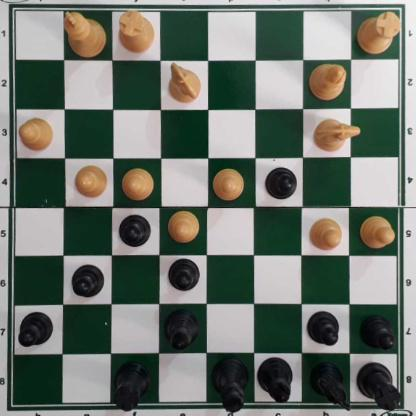black-bishop: (257, 358, 294, 407), (165, 310, 198, 353)
black-king: (211, 359, 250, 414)
black-knight: (311, 363, 348, 415)
black-pawn: (18, 312, 54, 349), (361, 317, 396, 352), (167, 260, 201, 295), (309, 312, 341, 349), (72, 265, 105, 300), (119, 215, 151, 250), (265, 168, 297, 202)
black-rook: (357, 363, 402, 415), (113, 362, 152, 412)
white-bishop: (308, 63, 347, 102)
white-king: (64, 10, 107, 59)
white-knight: (312, 119, 362, 152), (166, 63, 202, 105)
white-pawn: (19, 117, 56, 153), (74, 165, 108, 201), (167, 212, 203, 245), (359, 217, 395, 250), (309, 218, 343, 252), (122, 168, 155, 202), (213, 169, 245, 201)
white-rook: (356, 13, 402, 56), (118, 11, 155, 53)
